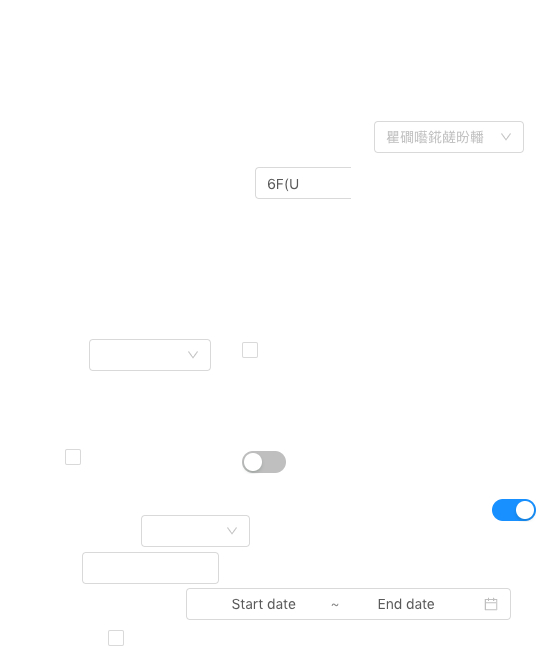Checkbox: (242, 339, 258, 360), (65, 446, 81, 467), (108, 627, 124, 648)
Input: (82, 552, 219, 584), (255, 167, 351, 199)
RangePicker: (186, 588, 511, 620)
Select: (374, 121, 524, 153), (89, 339, 211, 371), (141, 515, 250, 547)
Switch: (492, 498, 536, 522), (242, 450, 286, 474)
